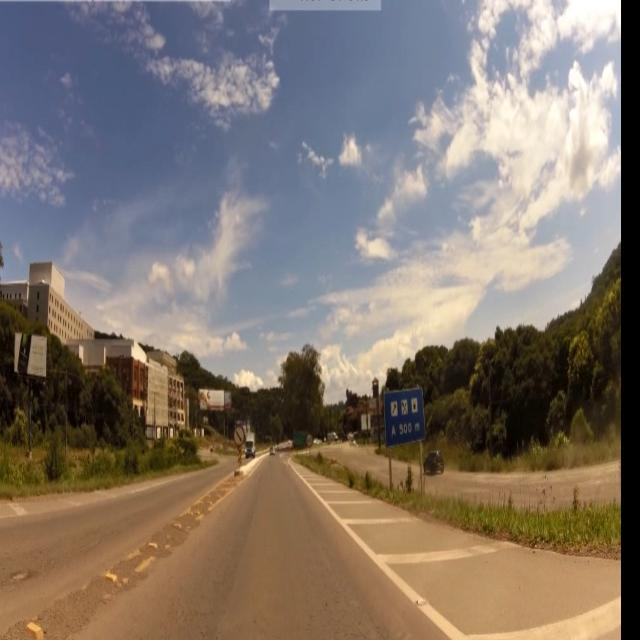LOC-6: (382, 390, 427, 446)
